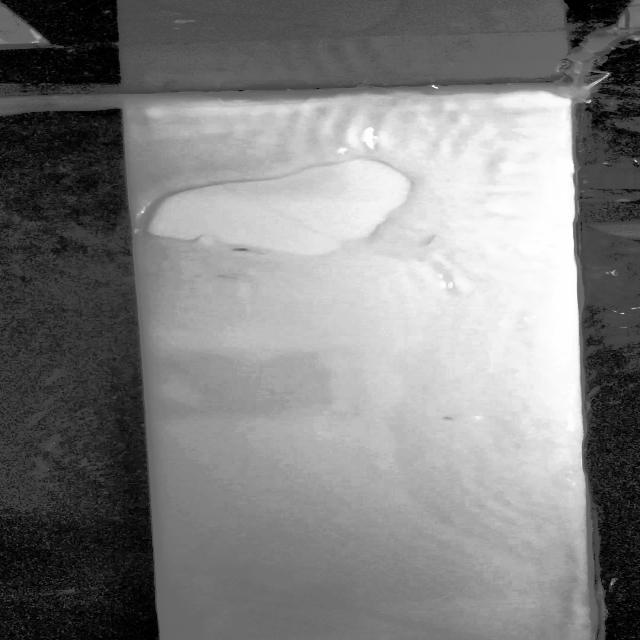shrimp: (220, 242, 276, 263)
